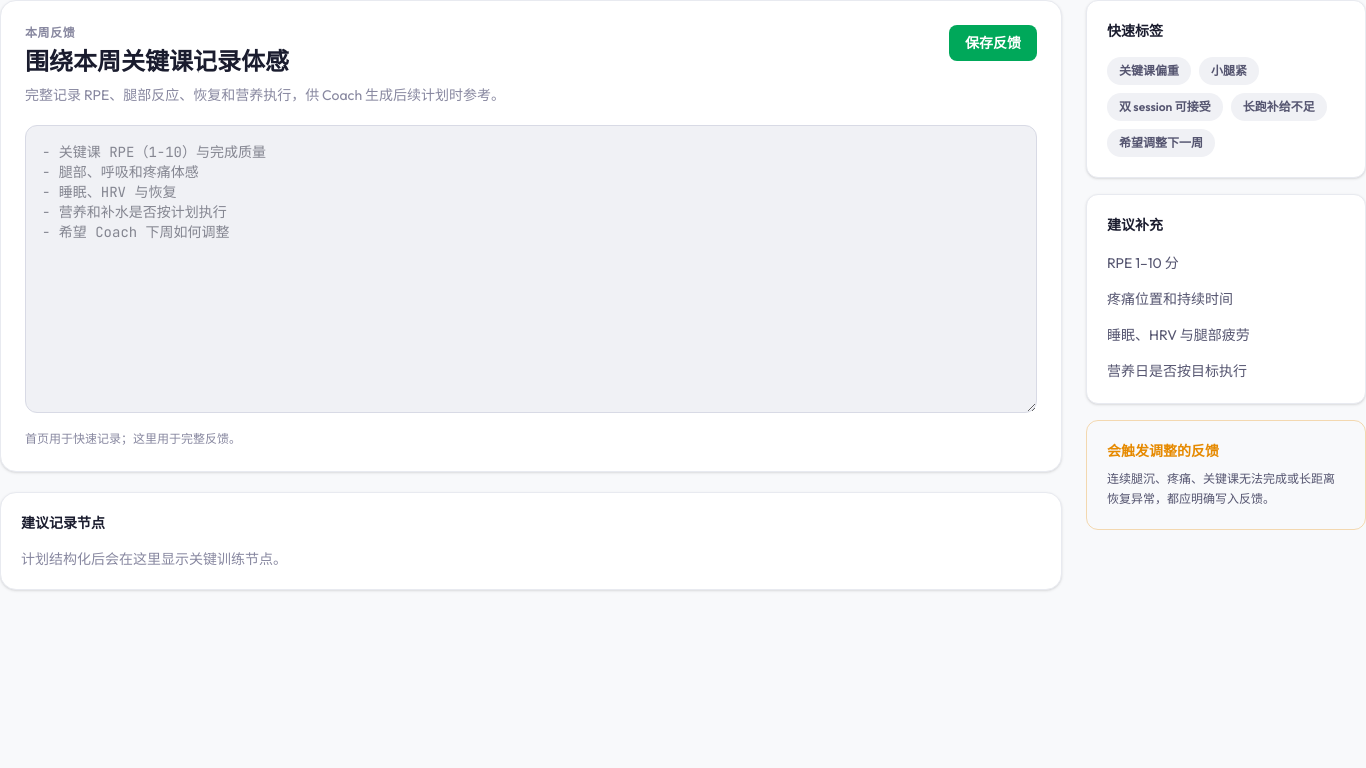
it: WeeklyFeedbackTab › keeps editing and shows save failures
Replace the text in the text box with "new feedback" at [531, 269], box 25,125 -> 1037,413
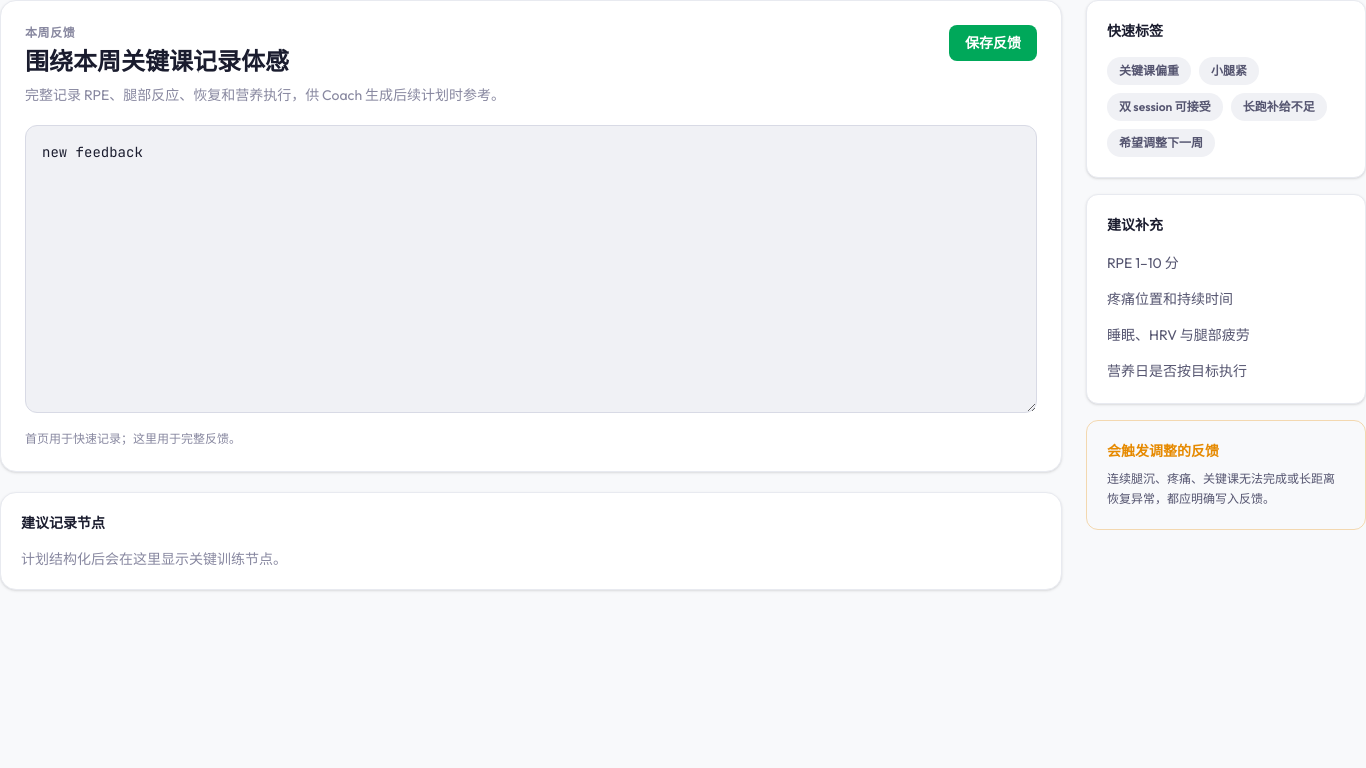
Click the button "保存反馈" at [993, 43], box 949,25 -> 1037,61
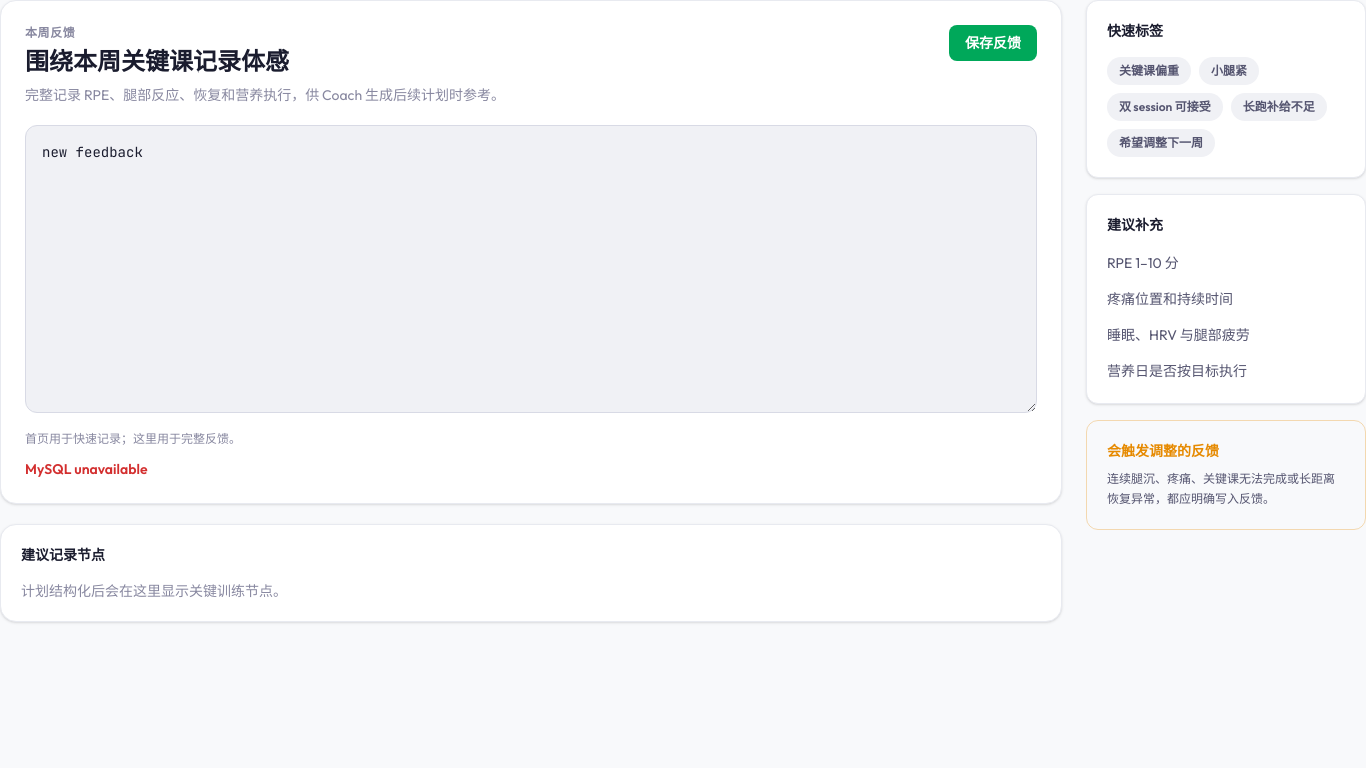
Check: the message reads "MySQL unavailable", box 25,460 -> 148,478
